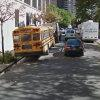Bus: (9, 23, 59, 59)
